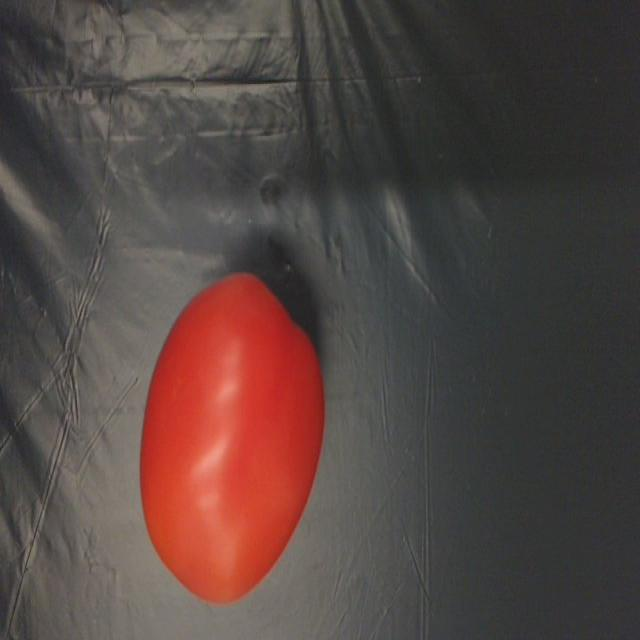kirmizi: (136, 270, 331, 610)
